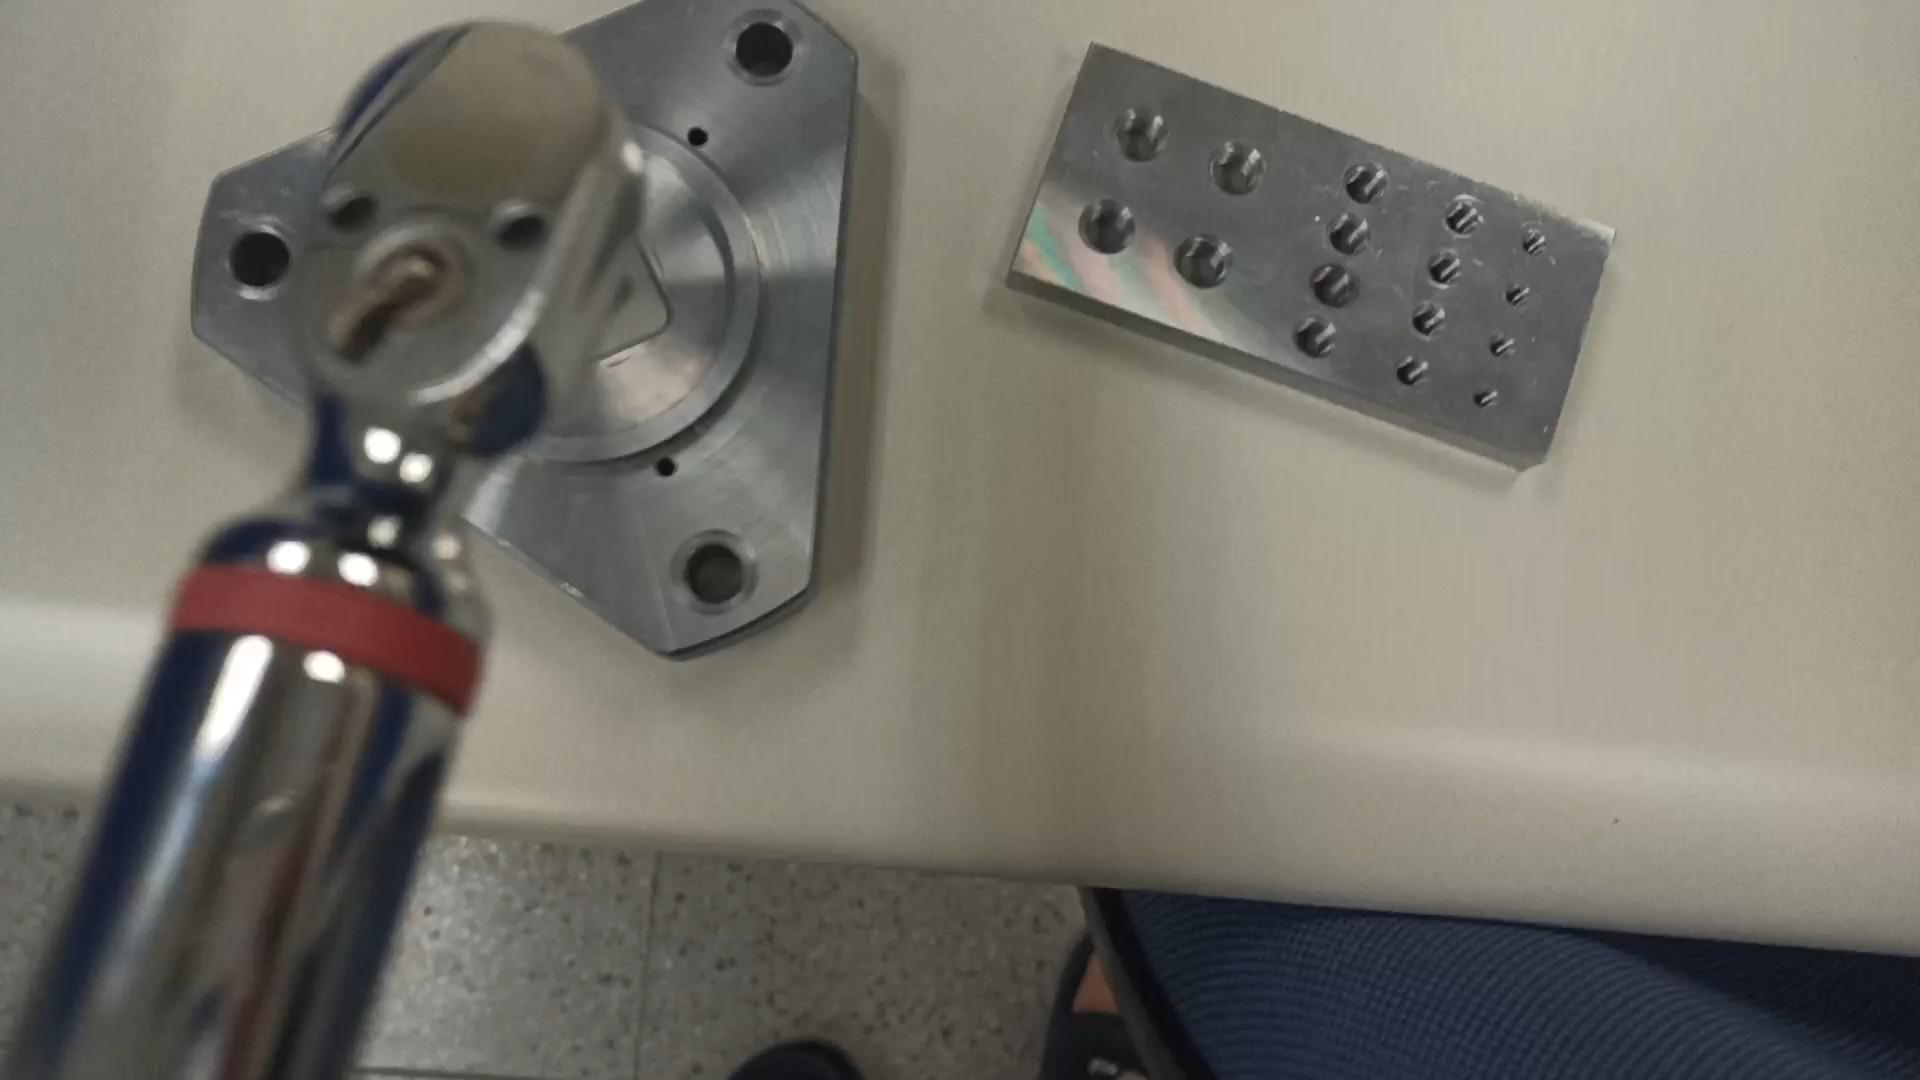Tool: (154, 32, 657, 496)
hole: (666, 524, 764, 626), (719, 11, 798, 91), (223, 225, 295, 309), (1171, 232, 1238, 297), (1079, 196, 1145, 261), (1112, 103, 1172, 167), (1209, 138, 1269, 203), (1309, 261, 1365, 310), (1294, 315, 1345, 363), (1325, 210, 1373, 257), (1341, 160, 1391, 204), (1444, 193, 1489, 239), (1406, 298, 1449, 342), (1425, 248, 1466, 289), (1398, 357, 1436, 396), (1516, 228, 1548, 264), (1505, 278, 1535, 310), (1469, 384, 1498, 414), (1490, 332, 1520, 361)
